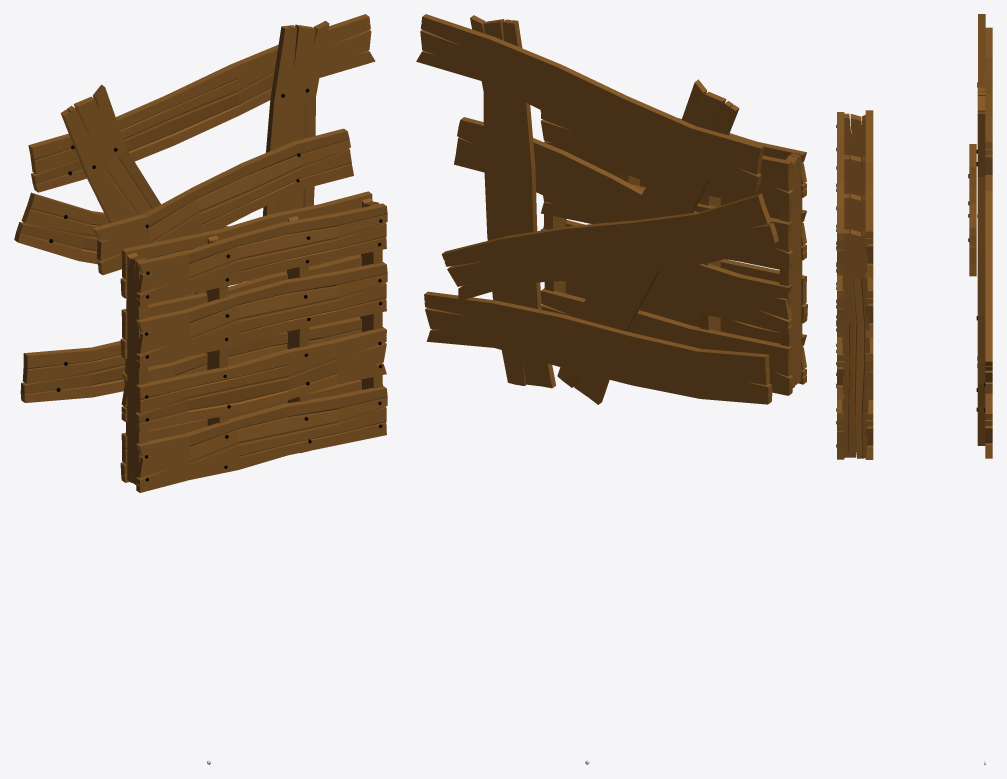
File: Barricade.fbx
The picture shows the model from 3 angles, left to right: view 1: azimuth 30°, elevation 25°; view 2: azimuth 150°, elevation 25°; view 3: azimuth 270°, elevation 25°; orthographic projection.
Parts seen in each view (by area): view 1: Plank, Plank.012, Plank.010, Plank.011, Plank.005, Plank.013, Plank.003, Plank.004, Plank.002, Plank.001, Plank.009, Plank.007 (+6 smaller); view 2: Plank, Plank.002, Plank.001, Plank.004, Plank.003, Plank.007, Plank.005, Plank.009, Plank.006, Plank.014, Plank.008, Plank.010 (+2 smaller); view 3: Plank.015, Plank.004, Plank.001, Plank.009, Plank, Plank.013, Plank.005, Plank.014, Plank.017, Plank.016, Plank.003, Plank.002 (+6 smaller).
Part boxes in pixels (bbox=[...]): Plank: bbox=[28, 14, 375, 192]; Plank.012: bbox=[136, 262, 387, 368]; Plank.010: bbox=[136, 386, 387, 492]; Plank.011: bbox=[135, 327, 386, 431]; Plank.005: bbox=[92, 128, 353, 275]; Plank.013: bbox=[136, 203, 387, 306]; Plank.003: bbox=[60, 84, 206, 358]; Plank.004: bbox=[263, 20, 329, 274]; Plank.002: bbox=[20, 341, 181, 402]; Plank.001: bbox=[14, 192, 347, 266]; Plank.009: bbox=[120, 191, 372, 298]; Plank.007: bbox=[121, 317, 361, 421]; Plank: bbox=[416, 14, 764, 193]; Plank.002: bbox=[424, 291, 772, 404]; Plank.001: bbox=[441, 193, 778, 301]; Plank.004: bbox=[470, 15, 555, 388]; Plank.003: bbox=[557, 79, 739, 404]; Plank.007: bbox=[540, 228, 792, 334]; Plank.005: bbox=[454, 117, 707, 264]; Plank.009: bbox=[540, 110, 793, 210]; Plank.006: bbox=[541, 288, 793, 395]; Plank.014: bbox=[779, 153, 802, 387]; Plank.008: bbox=[541, 184, 793, 271]; Plank.010: bbox=[565, 282, 806, 384]; Plank.015: bbox=[842, 229, 869, 458]; Plank.004: bbox=[977, 87, 985, 445]; Plank.001: bbox=[985, 190, 992, 393]; Plank.009: bbox=[865, 110, 873, 277]; Plank: bbox=[985, 27, 992, 190]; Plank.013: bbox=[837, 112, 844, 275]; Plank.005: bbox=[969, 144, 976, 276]; Plank.014: bbox=[844, 113, 865, 174]; Plank.017: bbox=[844, 155, 865, 213]; Plank.016: bbox=[844, 193, 865, 252]; Plank.003: bbox=[978, 14, 985, 200]; Plank.002: bbox=[985, 393, 992, 458].
Size of the model in its own units: 391 by 752 by 150.
